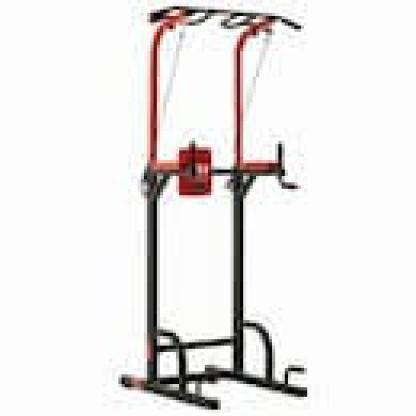chinning dipping: (120, 4, 307, 411)
